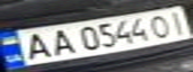0: (75, 24, 100, 52)
4: (127, 15, 154, 43), (115, 17, 136, 46)
5: (97, 20, 118, 48)
A: (15, 30, 57, 62), (42, 27, 78, 57)
I: (163, 8, 193, 35)
O: (145, 11, 175, 38)
